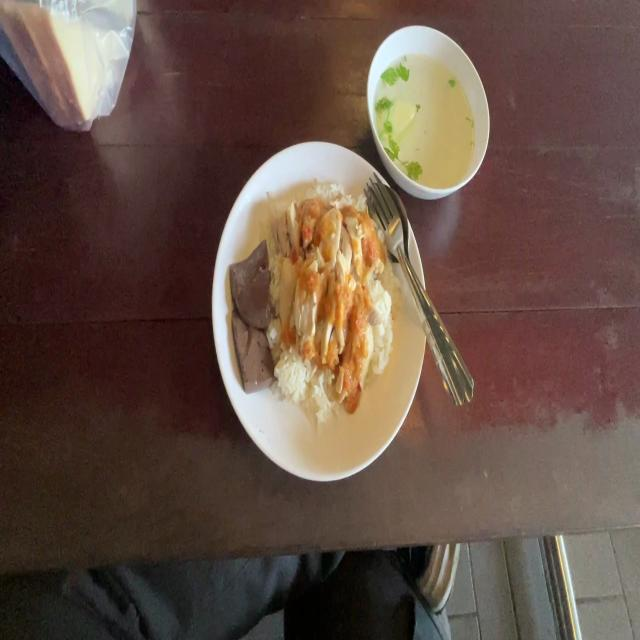chicken_rice: (274, 204, 372, 358)
noodle: (225, 233, 274, 328), (228, 313, 270, 391)
